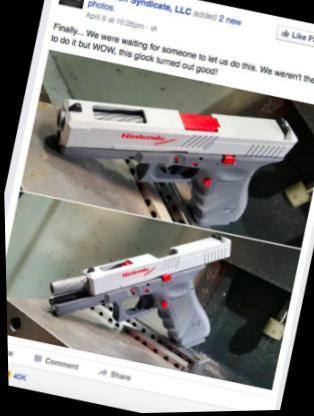pistol: (33, 61, 308, 246), (37, 198, 234, 359)
